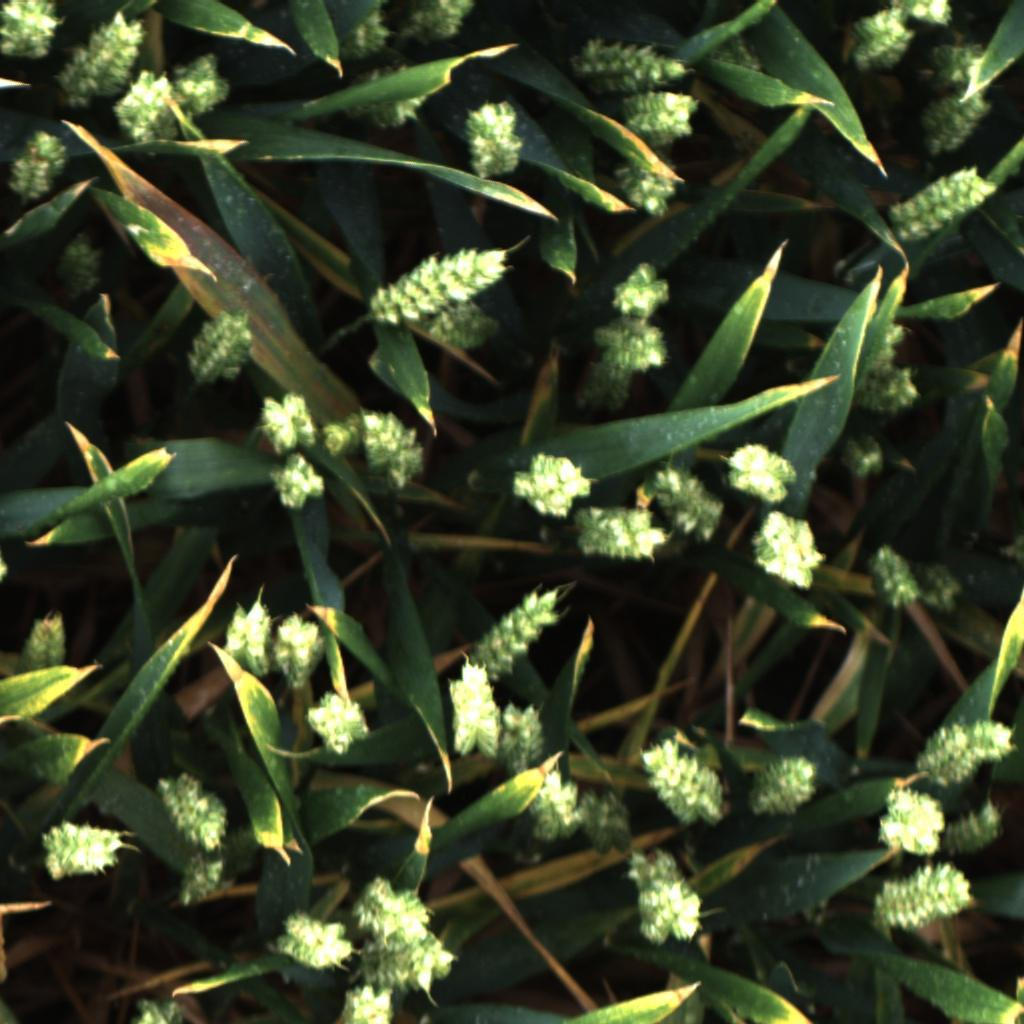0-0: (358, 244, 507, 319), (469, 577, 577, 670), (882, 168, 992, 246), (640, 734, 726, 831), (869, 860, 974, 937), (627, 853, 704, 950), (151, 763, 232, 854), (58, 11, 144, 94), (335, 69, 446, 133), (923, 715, 1021, 786), (33, 813, 128, 884), (645, 460, 725, 542), (745, 510, 824, 593), (571, 500, 668, 566), (571, 38, 693, 90), (510, 447, 596, 519), (442, 656, 501, 758), (742, 751, 823, 823), (185, 307, 260, 384), (517, 769, 586, 852), (363, 927, 461, 985), (358, 410, 431, 487), (220, 592, 284, 678), (459, 98, 526, 176), (355, 870, 426, 943), (723, 440, 802, 505), (875, 785, 949, 854), (909, 91, 994, 151), (116, 73, 182, 148), (272, 606, 332, 688), (273, 911, 353, 972), (162, 50, 235, 116), (605, 256, 674, 324), (849, 7, 915, 78), (306, 688, 369, 762), (592, 318, 671, 374), (11, 124, 69, 200), (496, 699, 553, 776), (619, 94, 702, 146), (849, 362, 926, 418), (577, 783, 635, 856), (256, 389, 318, 455), (943, 800, 1008, 856), (571, 362, 641, 414), (616, 165, 681, 221), (17, 609, 73, 673), (865, 544, 918, 611), (54, 235, 107, 299), (336, 8, 390, 69), (267, 456, 328, 509), (405, 3, 475, 49), (0, 4, 60, 57), (434, 308, 498, 355), (917, 561, 967, 619), (837, 428, 890, 482), (931, 37, 990, 83), (335, 983, 401, 1024), (176, 855, 229, 905), (315, 407, 364, 459), (891, 0, 954, 30)
